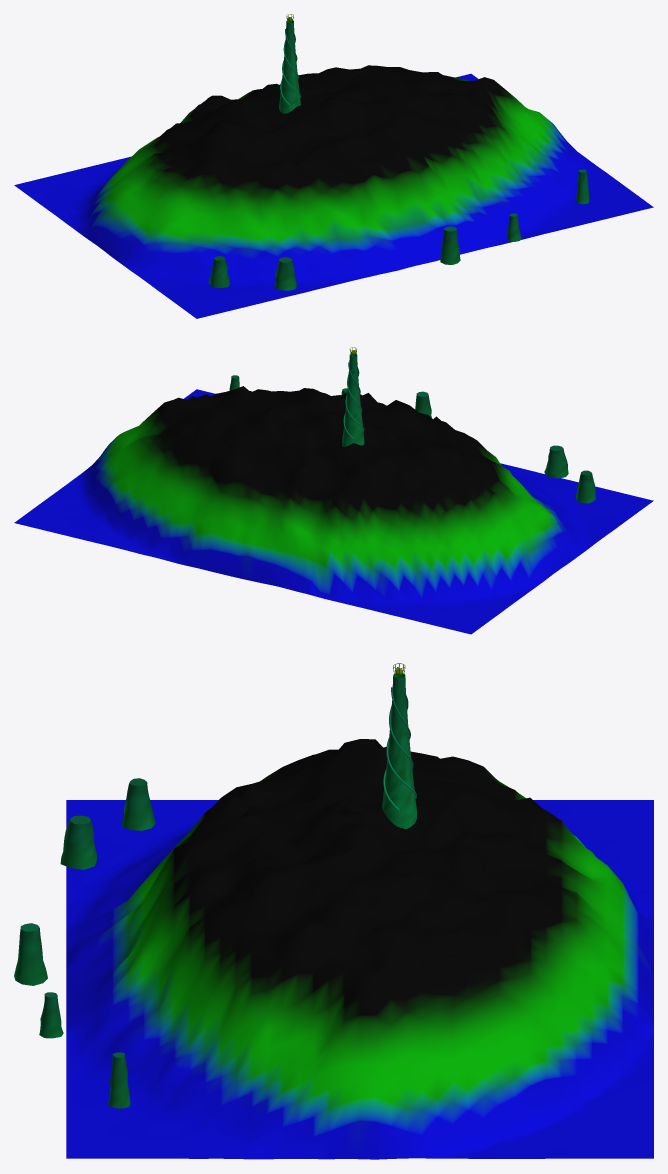
File: coilspire_headland.glb
3 renders of one model, top to bottom at view 1: azimuth 30°, elevation 25°; view 2: azimuth 150°, elevation 25°; view 3: azimuth 270°, elevation 25°, orthographic. The views are drawn at different scales.
Parts seen in each view (by area): view 1: coilspire_headland; view 2: coilspire_headland; view 3: coilspire_headland.
Part boxes in pixels (left/top/right/bottom): coilspire_headland: left=14, top=14, right=653, bottom=318; coilspire_headland: left=14, top=347, right=653, bottom=634; coilspire_headland: left=14, top=663, right=653, bottom=1159.
Size of what is drawn, in the model's own units: 260 by 97.97 by 196.
